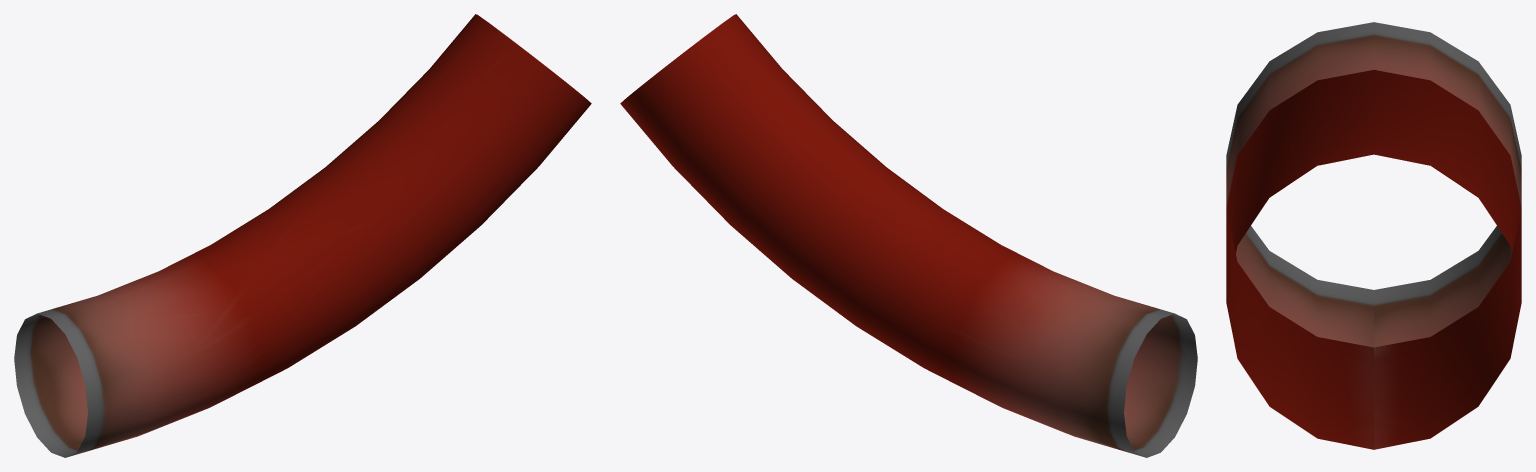
File: pipe01_crn_64a.fbx
3 renders of one model, left to right at view 1: azimuth 30°, elevation 25°; view 2: azimuth 150°, elevation 25°; view 3: azimuth 270°, elevation 25°, orthographic. The views are drawn at different scales.
Visible parts, largest first — view 1: pipe01_crn_64a; view 2: pipe01_crn_64a; view 3: pipe01_crn_64a.
Part boxes in pixels (x1=…): pipe01_crn_64a: x1=14, y1=14, x2=591, y2=457; pipe01_crn_64a: x1=620, y1=14, x2=1197, y2=457; pipe01_crn_64a: x1=1226, y1=22, x2=1521, y2=449.
Bounding box in the file's own units: 49.5 × 28.99 × 12.
